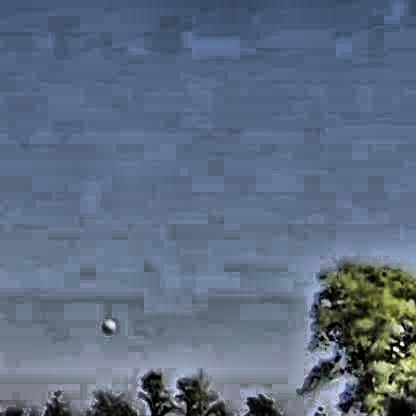golfball: (98, 315, 113, 333)
